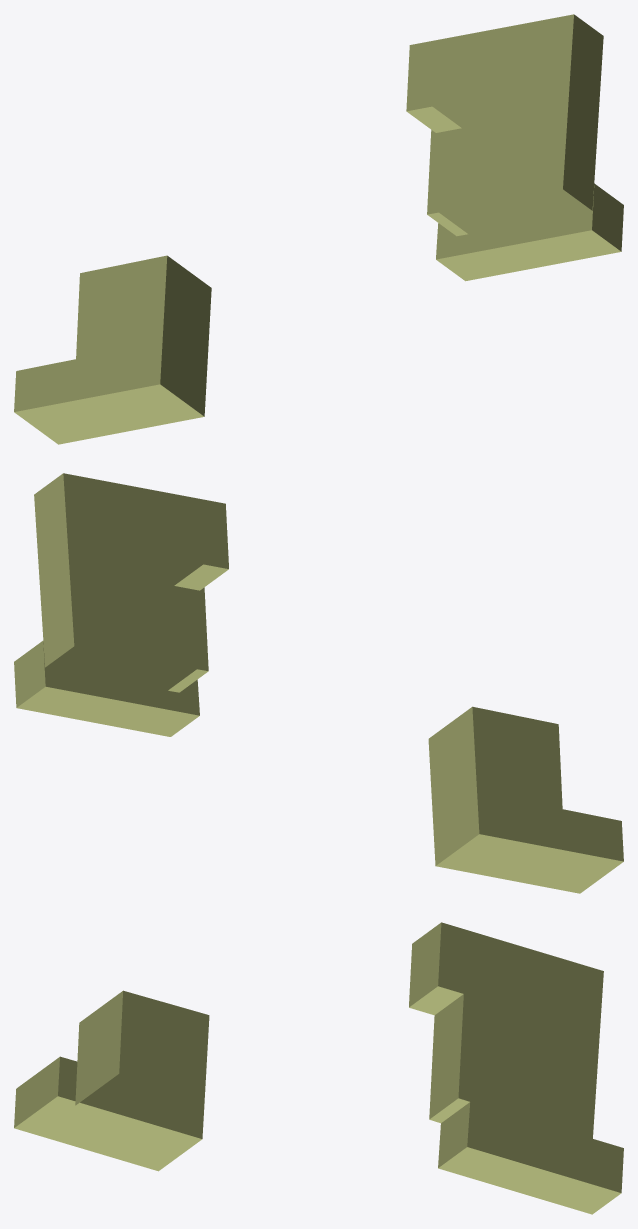
The picture shows the model from 3 angles, top to bottom: view 1: azimuth 30°, elevation 25°; view 2: azimuth 150°, elevation 25°; view 3: azimuth 330°, elevation 25°; orthographic projection.
Parts seen in each view (by area): view 1: 0_0_3_1_3_2_3_3; view 2: 0_0_3_1_3_2_3_3; view 3: 0_0_3_1_3_2_3_3.
Boxes of the visible parts, x1,y1,x2,y2 form: 0_0_3_1_3_2_3_3: [14, 14, 623, 444]; 0_0_3_1_3_2_3_3: [14, 473, 623, 893]; 0_0_3_1_3_2_3_3: [14, 922, 623, 1214].
Bounding box in the file's own units: 67.45 × 31.55 × 9.
